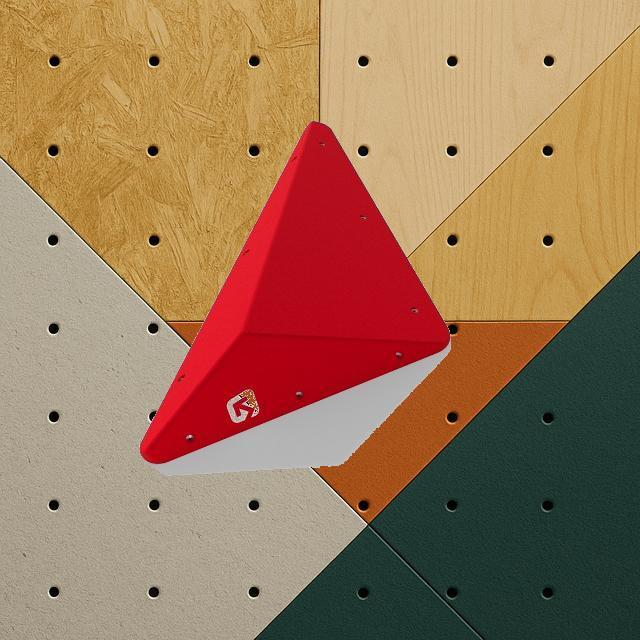Volume: (137, 119, 450, 465)
